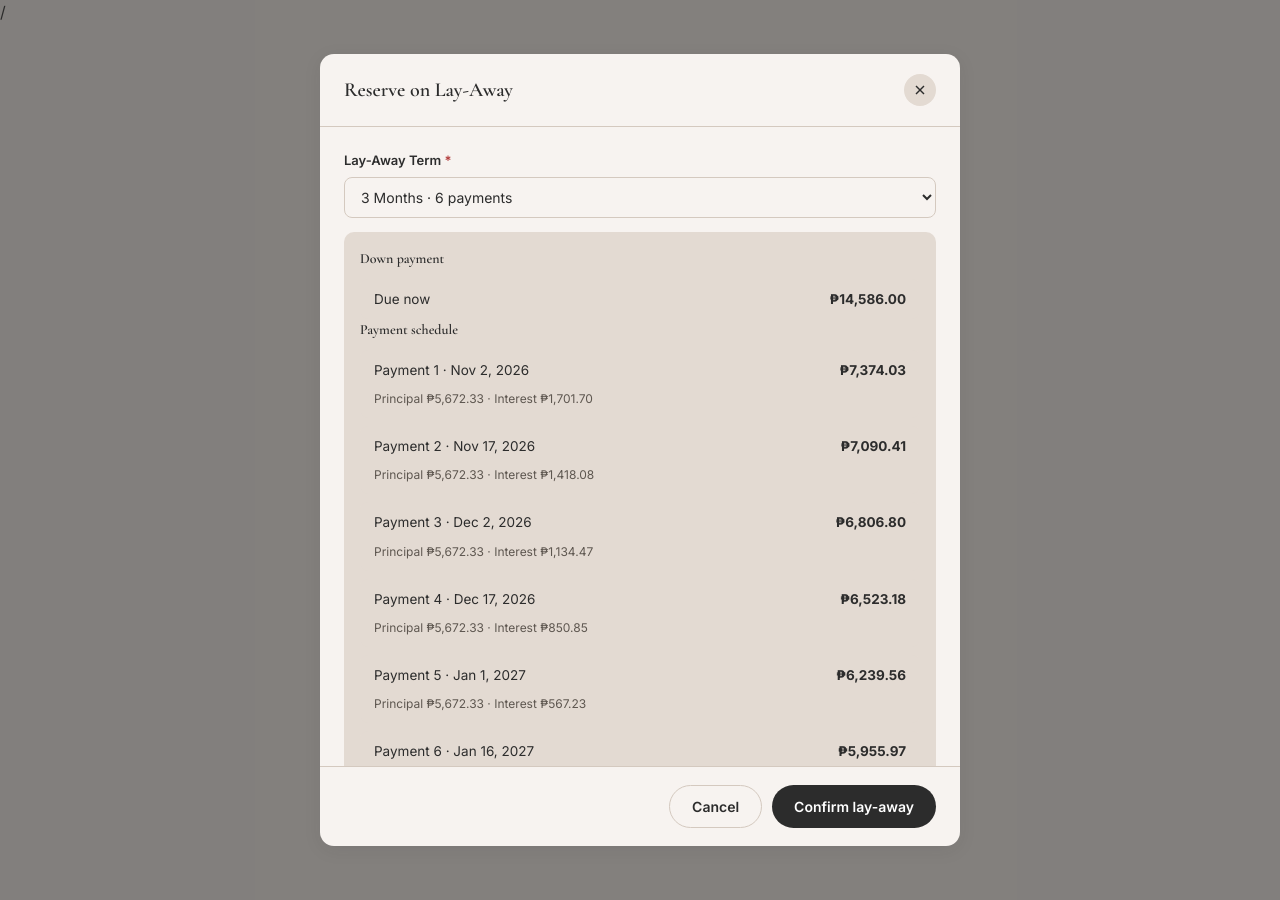
Checkout › redirects to the account page when closed after a plan is created
expect the dropdown labelled "Lay-Away Term" is shown: met, box [344,176,936,218]
expect the heading "Down payment" is shown: met, box [360,250,444,266]
Click the button "Confirm lay-away": (854, 806) [772,785,936,828]
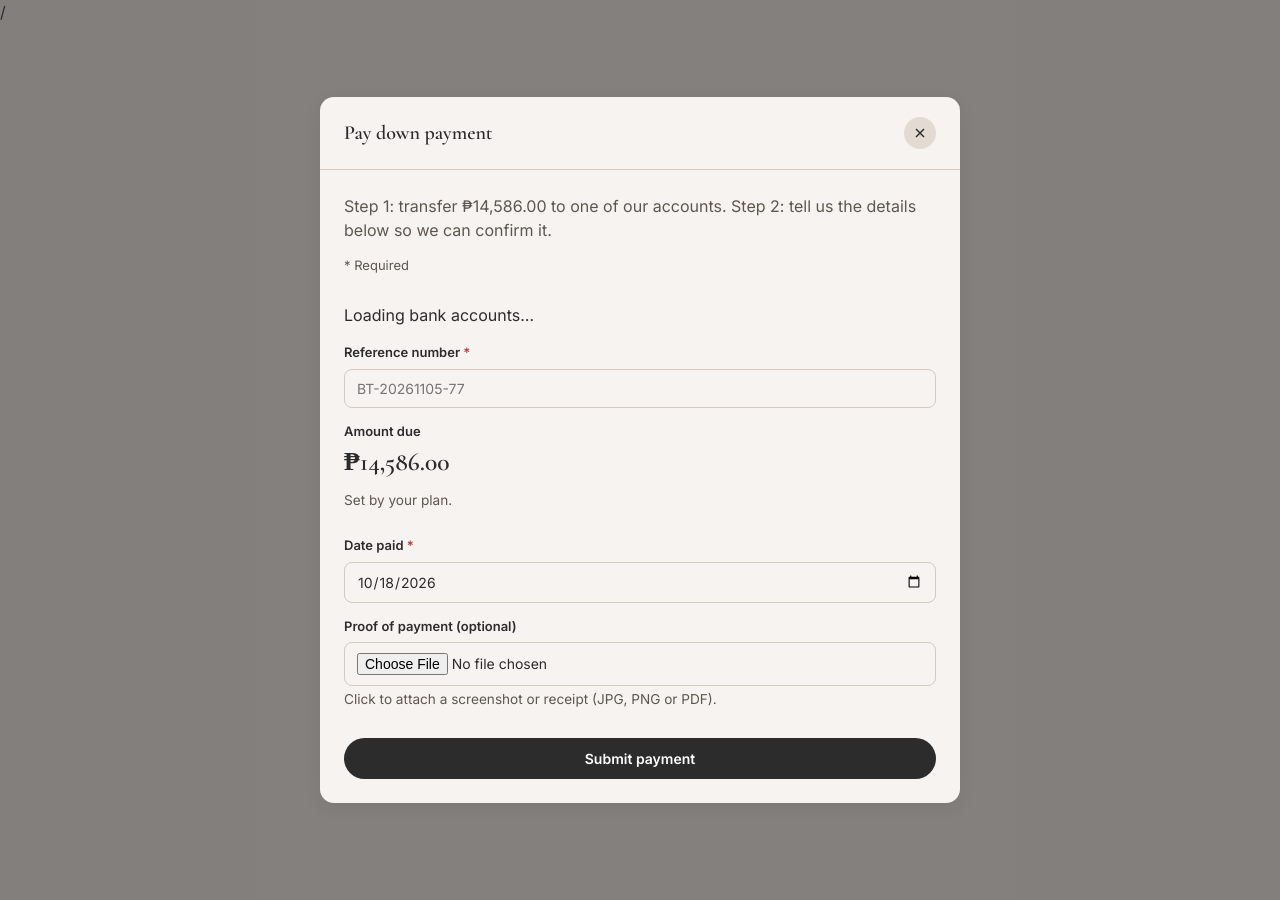
expect the heading "Pay down payment" is shown: met, box [344,118,493,148]
expect the button "Cancel" is gone: met
Click the button named "Close": (920, 133) [904,117,936,149]
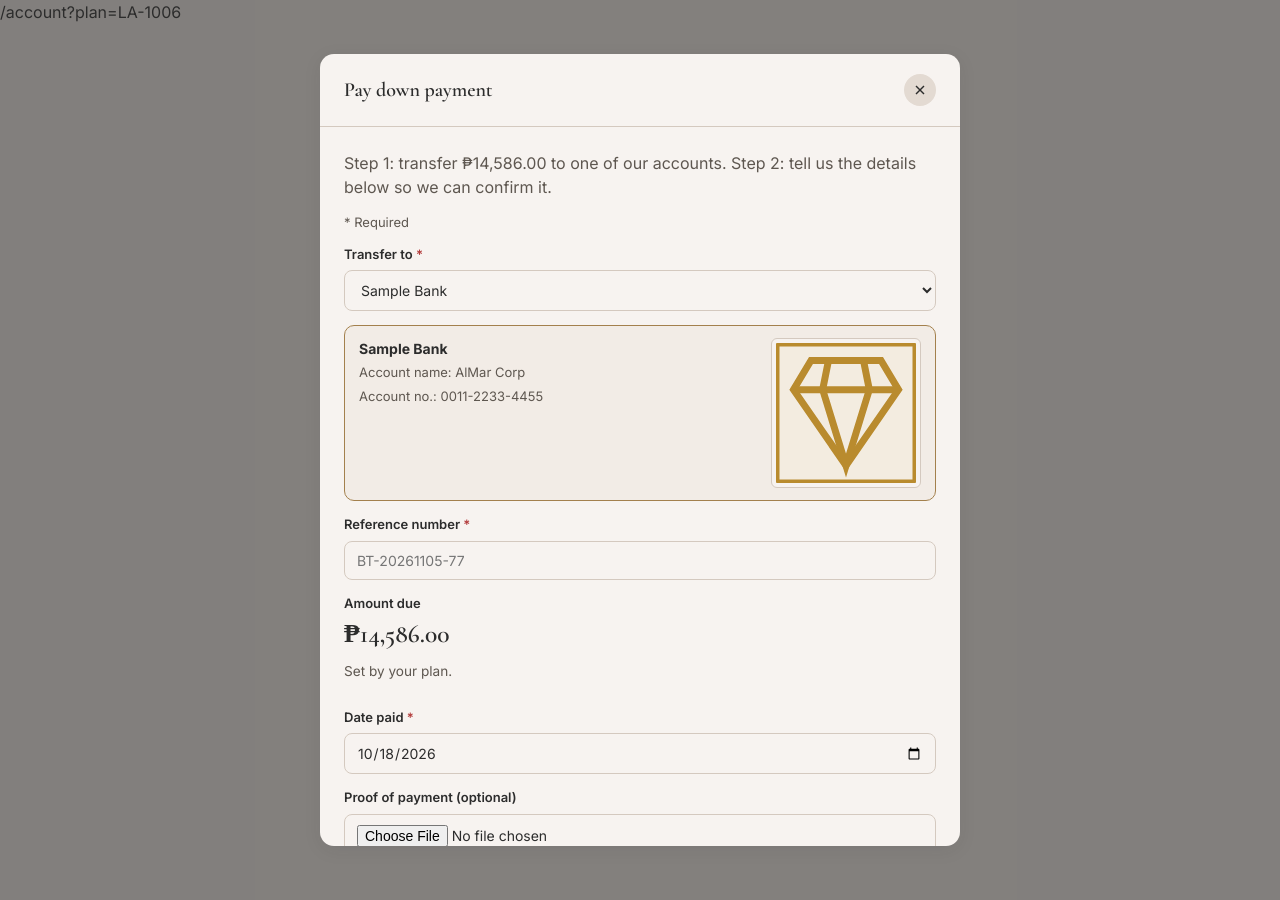
expect the text with test id "location" shows "/account?plan=LA-": met, box [0,2,181,22]
